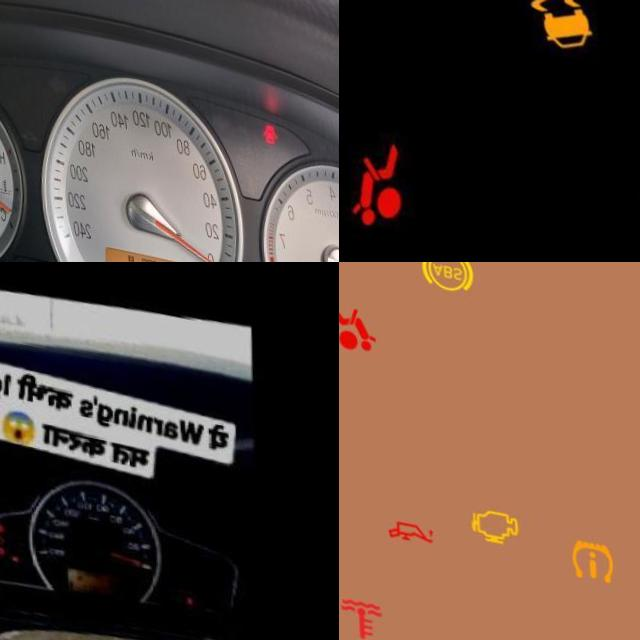Doors: (260, 105, 276, 129)
High Engine Coolant Temperature: (339, 586, 384, 640)
